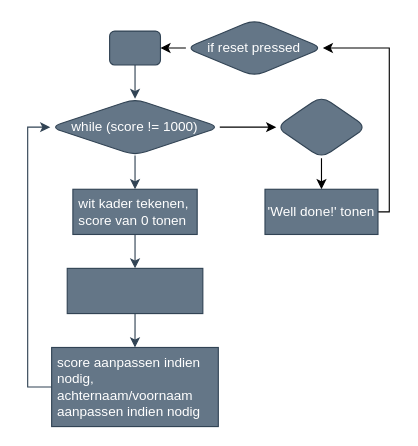
Some shapes in this 418 by 446 pixel diagram are drawn without their labels. The shapes that lost their labels are listed below. From the top down, each one's centre as x and y in pixels, then its label:
At point 134,47: "loop".
At point 321,126: "else".
At point 134,290: "blokje laten vallen, anders nieuw blokje".
